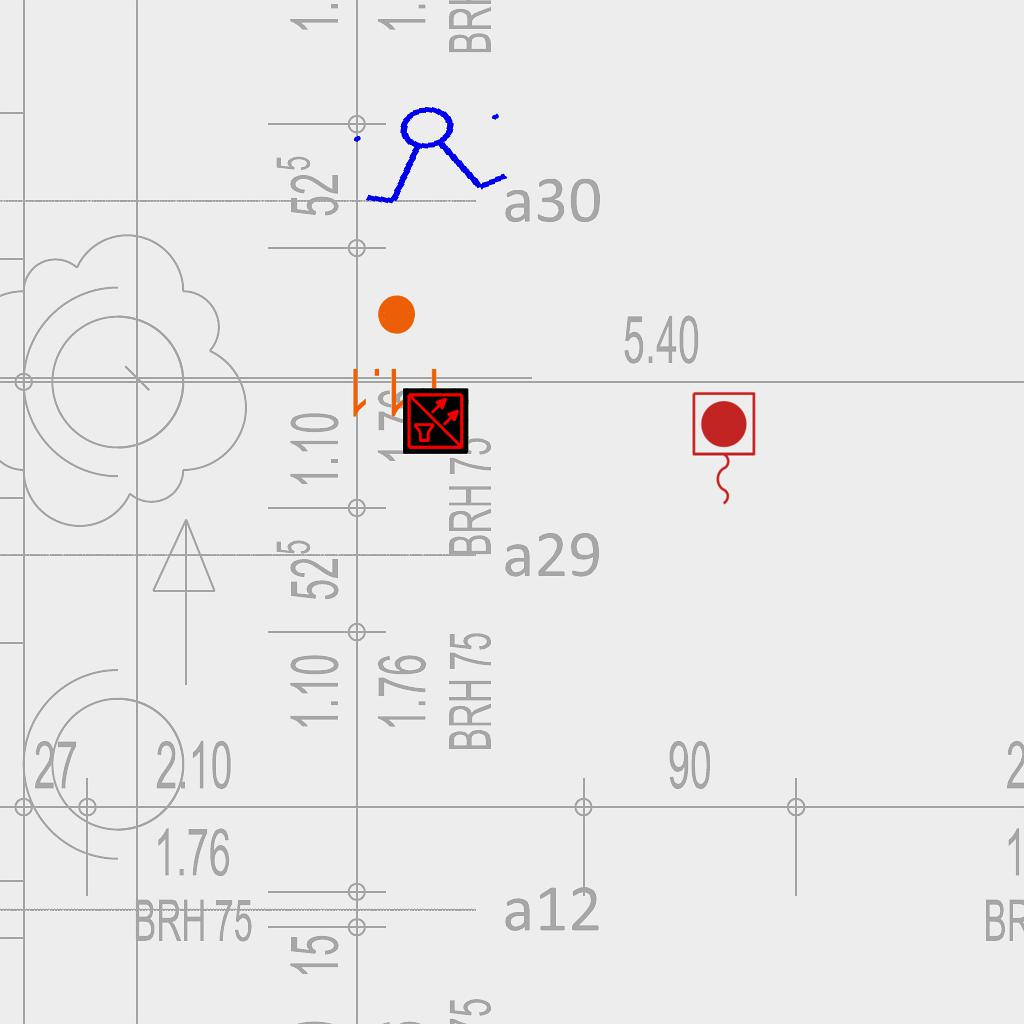Downlight_LED_Einbauleuchten_Flur: (347, 292, 440, 420)
OKW_Multisensormelder_(Kombination_optischer_Rauch-Kahlenmonoxid_Waerme-Melder): (403, 388, 469, 454)
Serienschalter: (341, 92, 523, 214)
Zugtaster: (687, 388, 759, 510)
